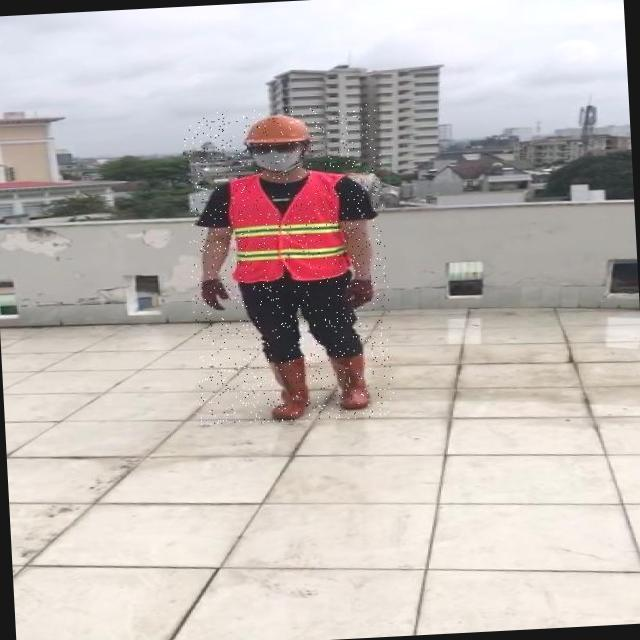boots: (268, 354, 311, 421), (328, 348, 372, 411)
helmet: (238, 112, 314, 148)
vest: (225, 170, 352, 284)
